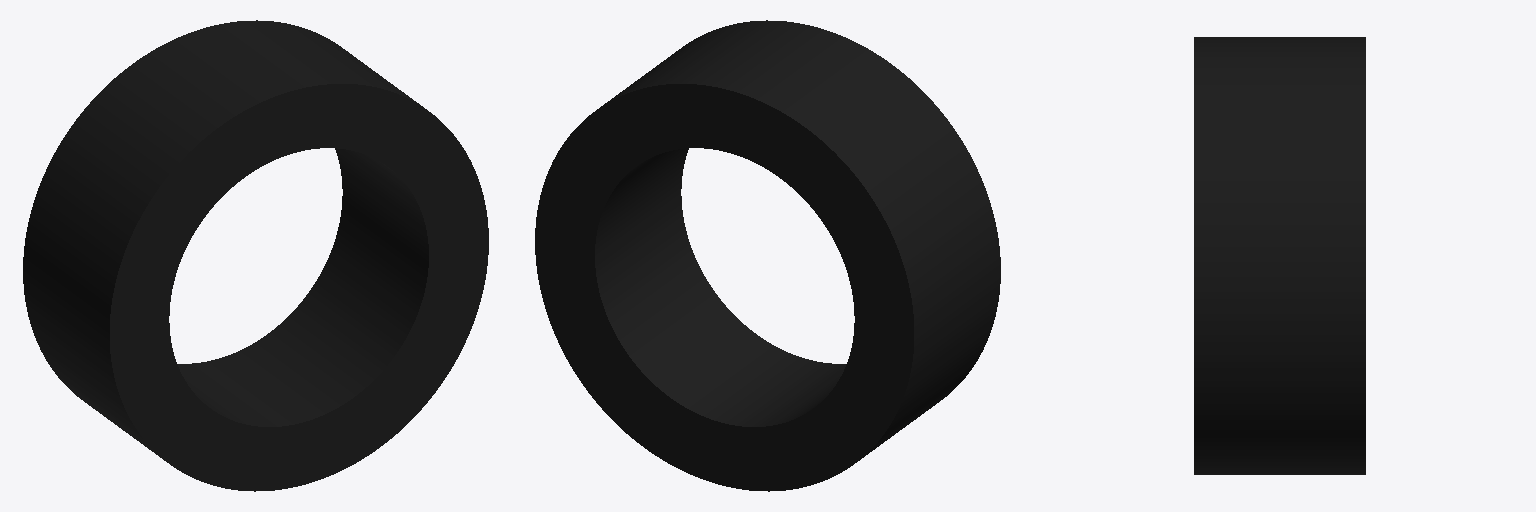
File: tyre.obj
The picture shows the model from 3 angles: view 1: azimuth 30°, elevation 25°; view 2: azimuth 150°, elevation 25°; view 3: azimuth 270°, elevation 25°; orthographic projection.
Parts seen in each view (by area): view 1: Gomma; view 2: Gomma; view 3: Gomma.
Boxes of the visible parts, x1=… form: Gomma: x1=23, y1=20, x2=488, y2=491; Gomma: x1=535, y1=20, x2=1000, y2=491; Gomma: x1=1194, y1=37, x2=1365, y2=474.
Bounding box in the file's own units: 190 × 190 × 75.